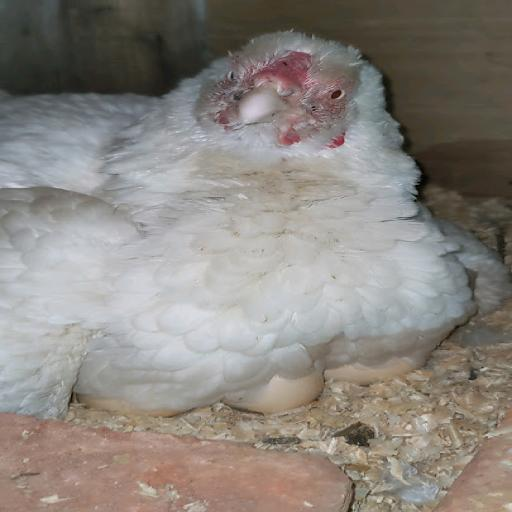disease: (191, 36, 365, 152)
